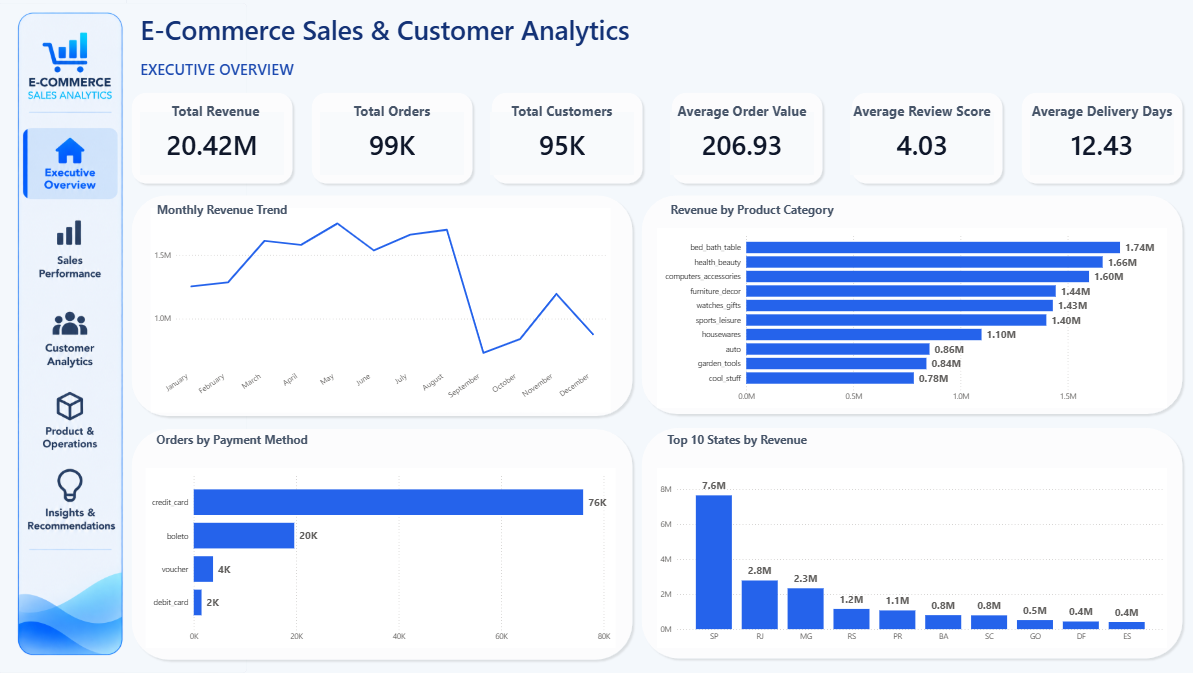

What the dashboard file says about the page in this screenshot:
{"tool":"powerbi","page":{"name":"Executive Overview","canvas":[1920,1080],"ordinal":0},"visuals":[{"type":"shape","box":[0,-8,208,1088],"z":1000},{"type":"image","box":[0,8,400,1072],"z":1500},{"type":"shape","box":[208,144,272,160],"z":2000},{"type":"shape","box":[1632,144,272,160],"z":4000},{"type":"shape","box":[496,144,272,160],"z":5000},{"type":"shape","box":[784,144,256,160],"z":6000},{"type":"shape","box":[1360,144,256,160],"z":7000},{"type":"shape","box":[1072,144,256,160],"z":8000},{"type":"cardVisual","fields":{"Data":["Sales Analytics.Total Customers"]},"box":[784,176,240,112],"z":9000},{"type":"cardVisual","fields":{"Data":["Sales Analytics.Total Orders"]},"box":[512,176,240,112],"z":10000},{"type":"cardVisual","fields":{"Data":["Sales Analytics.Average Review Score"]},"box":[1360,176,240,112],"z":11000},{"type":"cardVisual","fields":{"Data":["Sales Analytics.Average Order Value"]},"box":[1072,176,240,112],"z":12000},{"type":"cardVisual","fields":{"Data":["Sales Analytics.Average Delivery Days"]},"box":[1648,176,240,112],"z":13000},{"type":"cardVisual","fields":{"Data":["Sales Analytics.Total Revenue"]},"box":[224,176,240,112],"z":14000},{"type":"textbox","box":[496,160,272,48],"z":15000},{"type":"textbox","box":[768,160,272,48],"z":16000},{"type":"textbox","box":[1056,160,272,48],"z":17000},{"type":"textbox","box":[1344,160,272,48],"z":18000},{"type":"textbox","box":[1632,160,272,48],"z":19000},{"type":"shape","box":[208,307,816,368],"z":20000},{"type":"lineChart","fields":{"Y":["Sum(public vw_monthly_sales.revenue)"],"Category":["public vw_monthly_sales.month.Variation.Date Hierarchy.Month"]},"box":[245,336,736,327],"z":21000},{"type":"shape","box":[207,682,816,384],"z":22000},{"type":"shape","box":[1024,307,880,365],"z":23000},{"type":"shape","box":[1024,679,880,384],"z":24000},{"type":"textbox","box":[224,320,272,48],"z":25000},{"type":"textbox","box":[1024,320,368,48],"z":26000},{"type":"textbox","box":[240,688,272,48],"z":27000},{"type":"textbox","box":[1008,688,352,48],"z":28000},{"type":"clusteredBarChart","fields":{"Y":["Sales Analytics.Total Revenue"],"Category":["Sales Analytics.product_category"]},"box":[1056,368,816,288],"z":29000},{"type":"clusteredBarChart","fields":{"Category":["Sales Analytics.payment_type"],"Y":["Sales Analytics.Total Orders"]},"box":[238,752,752,288],"z":30000},{"type":"textbox","box":[208,160,272,48],"z":31000},{"type":"clusteredColumnChart","fields":{"Category":["Sales Analytics.customer_state"],"Y":["Sales Analytics.Total Revenue"]},"box":[1056,752,816,288],"z":32000},{"type":"textbox","box":[224,16,848,80],"z":33000},{"type":"textbox","box":[224,91,704,64],"z":34000}]}

Visuals, with their boxes on the page's 1920x1080 design canvas (x1, y1, x2, y2). These are canvas units, not pixel positions in the 1193x673 screenshot, which may show the page scaled, cropped or inside an application window:
shape: [0,-8,208,1080]
image: [0,8,400,1080]
shape: [208,144,480,304]
shape: [1632,144,1904,304]
shape: [496,144,768,304]
shape: [784,144,1040,304]
shape: [1360,144,1616,304]
shape: [1072,144,1328,304]
cardVisual - Sales Analytics.Total Customers: [784,176,1024,288]
cardVisual - Sales Analytics.Total Orders: [512,176,752,288]
cardVisual - Sales Analytics.Average Review Score: [1360,176,1600,288]
cardVisual - Sales Analytics.Average Order Value: [1072,176,1312,288]
cardVisual - Sales Analytics.Average Delivery Days: [1648,176,1888,288]
cardVisual - Sales Analytics.Total Revenue: [224,176,464,288]
textbox: [496,160,768,208]
textbox: [768,160,1040,208]
textbox: [1056,160,1328,208]
textbox: [1344,160,1616,208]
textbox: [1632,160,1904,208]
shape: [208,307,1024,675]
lineChart - Sum(public vw_monthly_sales.revenue) x public vw_monthly_sales.month.Variation.Date Hierarchy.Month: [245,336,981,663]
shape: [207,682,1023,1066]
shape: [1024,307,1904,672]
shape: [1024,679,1904,1063]
textbox: [224,320,496,368]
textbox: [1024,320,1392,368]
textbox: [240,688,512,736]
textbox: [1008,688,1360,736]
clusteredBarChart - Sales Analytics.Total Revenue x Sales Analytics.product_category: [1056,368,1872,656]
clusteredBarChart - Sales Analytics.payment_type x Sales Analytics.Total Orders: [238,752,990,1040]
textbox: [208,160,480,208]
clusteredColumnChart - Sales Analytics.customer_state x Sales Analytics.Total Revenue: [1056,752,1872,1040]
textbox: [224,16,1072,96]
textbox: [224,91,928,155]
